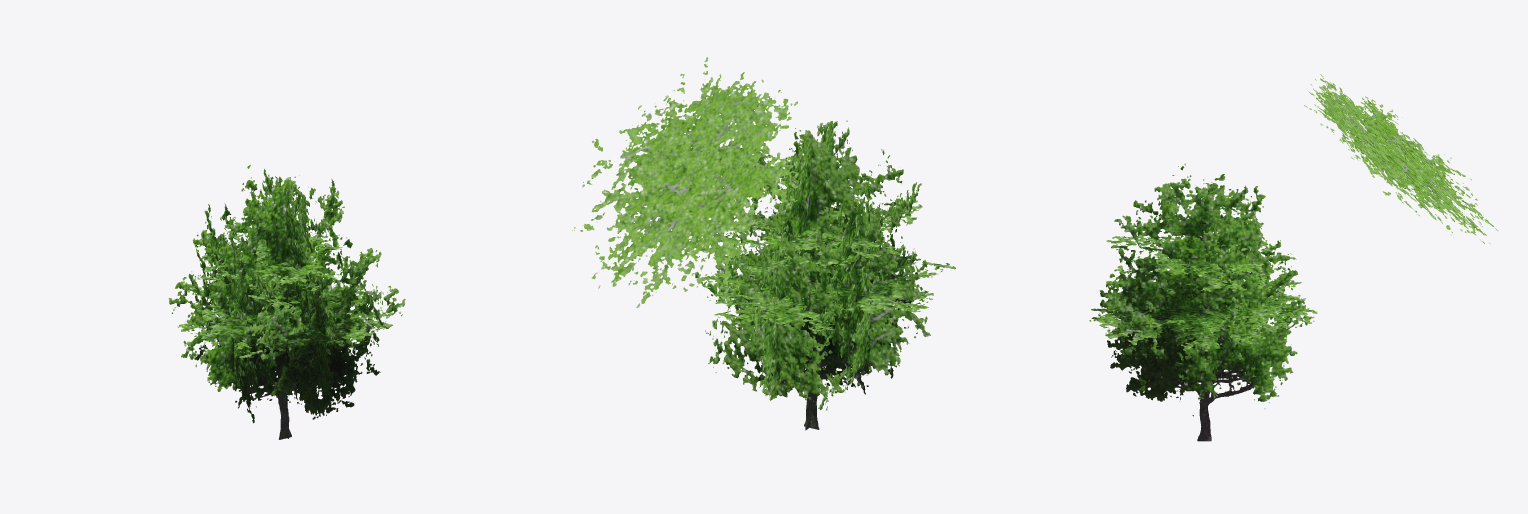
Rendered from tree-impo5C.glb.
3 views of the same model, side by side, from view 1: azimuth 30°, elevation 25°; view 2: azimuth 150°, elevation 25°; view 3: azimuth 270°, elevation 25° (orthographic). The views are drawn at different scales.
Parts seen in each view (by area): view 1: Plane.002, Plane.008, Plane.003, Plane, Plane.012, Plane.006, Plane.010, Plane.011; view 2: shadow, Plane.001, Plane.007, Plane.003, Plane, Plane.012, Plane.006, Plane.009, Plane.011; view 3: Plane.004, shadow, Plane, Plane.013, Plane.006, Plane.014.
Boxes of the visible parts, <box> form: Plane.002: <box>181,175,367,439</box>; Plane.008: <box>243,205,405,419</box>; Plane.003: <box>240,169,337,438</box>; Plane: <box>178,270,394,357</box>; Plane.012: <box>188,203,279,423</box>; Plane.006: <box>197,230,342,308</box>; Plane.010: <box>168,165,330,360</box>; Plane.011: <box>308,178,383,370</box>; shadow: <box>571,57,798,308</box>; Plane.001: <box>715,128,930,429</box>; Plane.007: <box>694,184,847,401</box>; Plane.003: <box>749,121,864,430</box>; Plane: <box>701,229,955,333</box>; Plane.012: <box>818,149,921,410</box>; Plane.006: <box>725,197,922,269</box>; Plane.009: <box>780,120,927,327</box>; Plane.011: <box>705,187,782,372</box>; Plane.004: <box>1099,178,1309,441</box>; shadow: <box>1304,74,1497,243</box>; Plane: <box>1089,265,1317,349</box>; Plane.013: <box>1111,224,1284,416</box>; Plane.006: <box>1106,233,1296,291</box>; Plane.014: <box>1114,163,1297,355</box>.
Size of the model in its own units: 9.86 by 14.59 by 16.4.
1 material, 1 textured.
